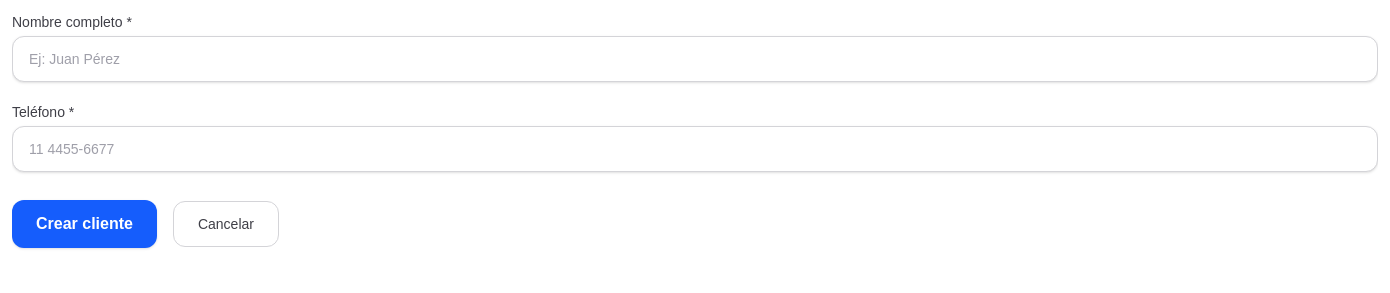
Scenario: CustomerForm › create mode › shows 10-digit validation when phone has too few digits
Type "Test" into the field labelled "Nombre completo *" at (695, 59), box x1=12 y1=36 x2=1378 y2=82
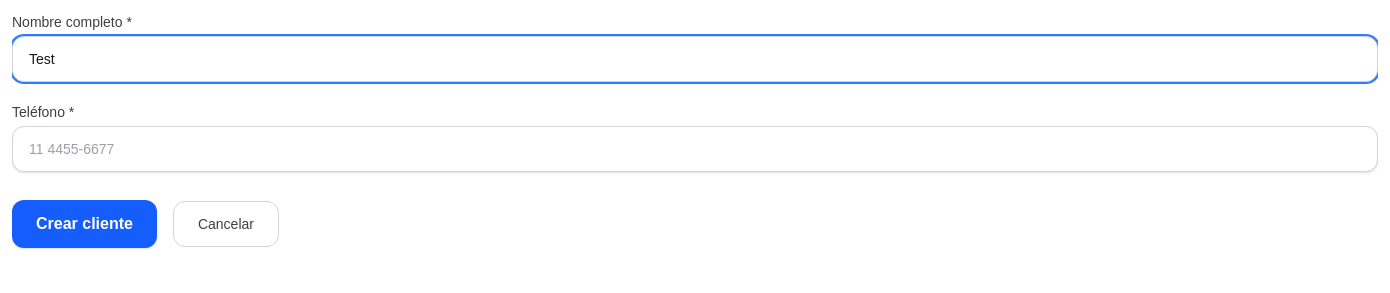
Type "12345" into the field labelled "Teléfono *" at (695, 149), box x1=12 y1=126 x2=1378 y2=172
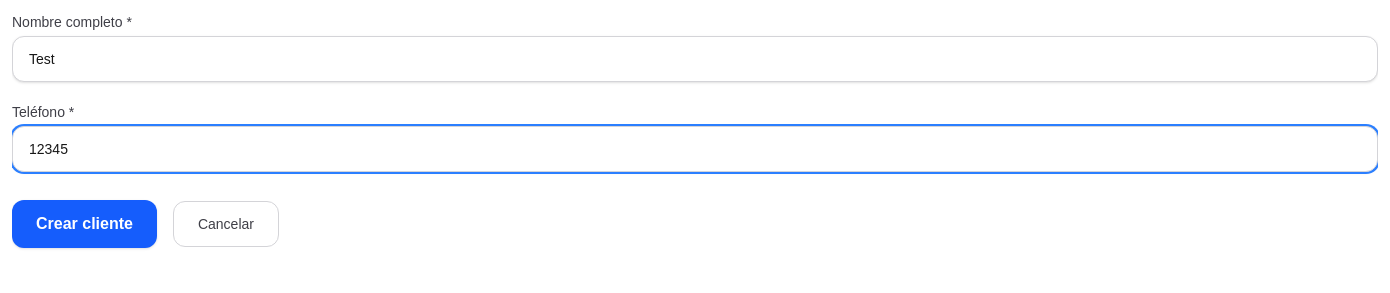
Click the button "Crear cliente" at (84, 224), box x1=12 y1=200 x2=157 y2=248
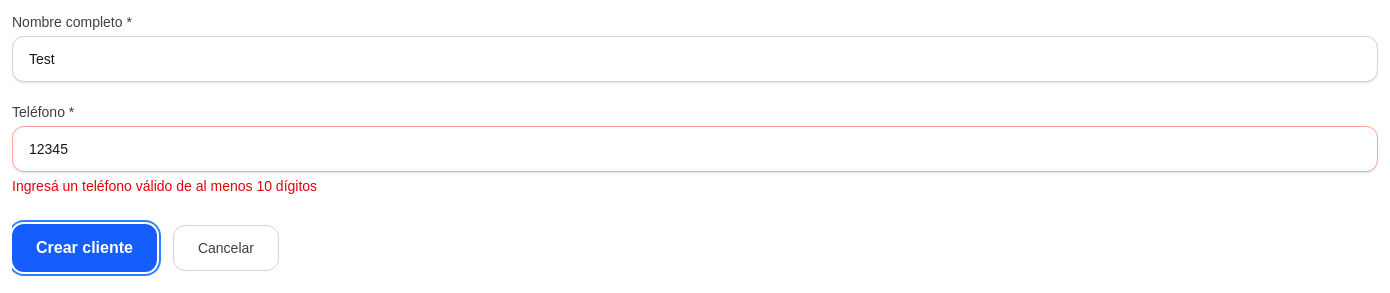
Result: the text "Ingresá un teléfono válido de al menos 10 dígitos" is shown at x1=12 y1=178 x2=317 y2=194
